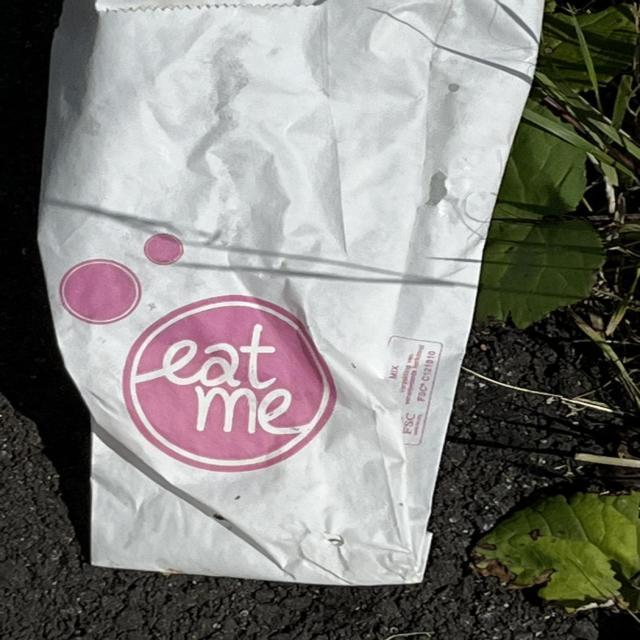Paper: (36, 0, 545, 586)
